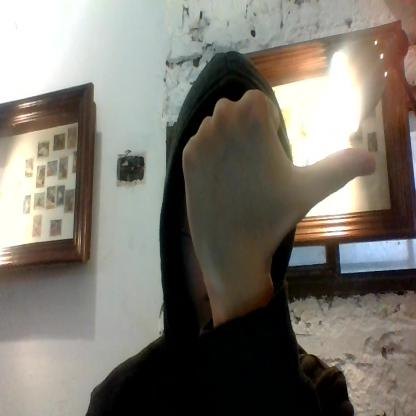left: (177, 84, 382, 256)
